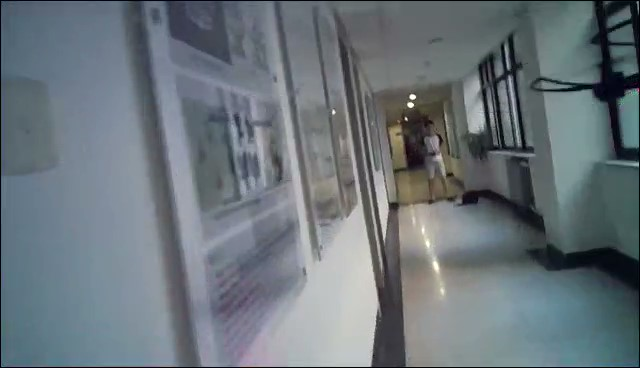drone: (529, 17, 640, 112)
person: (419, 120, 457, 204)
